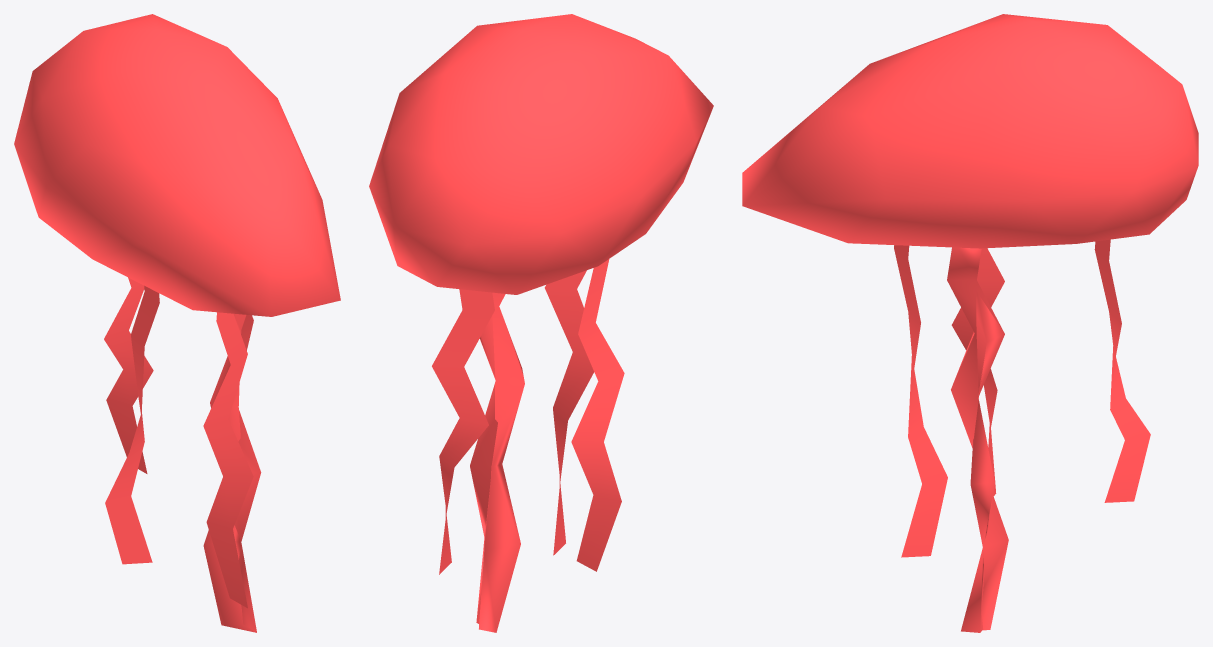
File: jellyfish.glb
3 renders of one model, left to right at view 1: azimuth 30°, elevation 25°; view 2: azimuth 150°, elevation 25°; view 3: azimuth 270°, elevation 25°, orthographic. The views are drawn at different scales.
Visible parts, largest first — view 1: Medusa; view 2: Medusa; view 3: Medusa.
Part boxes in pixels (bbox=[...]): Medusa: bbox=[14, 14, 340, 632]; Medusa: bbox=[369, 14, 713, 632]; Medusa: bbox=[742, 14, 1198, 632].
Size of the model in its own units: 1.43 by 3.6 by 2.57.
